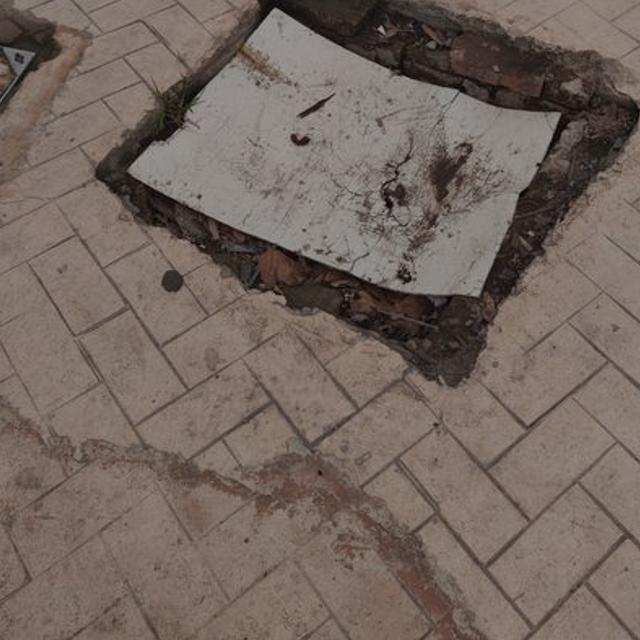broke: (79, 0, 640, 417)
